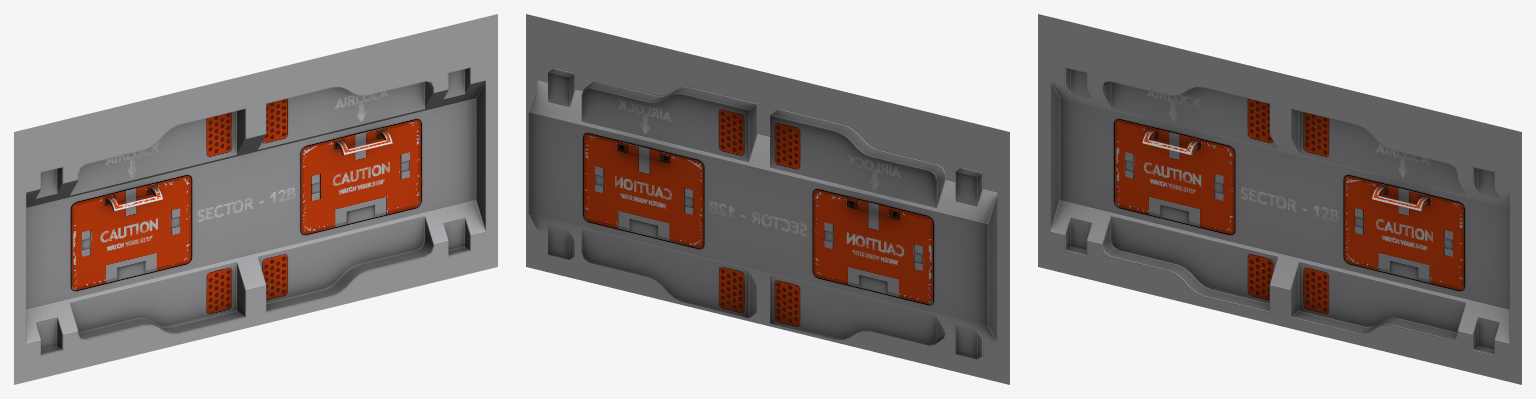
File: wall 1.obj
3 renders of one model, left to right at view 1: azimuth 30°, elevation 25°; view 2: azimuth 150°, elevation 25°; view 3: azimuth 330°, elevation 25°, orthographic.
Visible parts, largest first — view 1: wall_1_lp_Plane.017; view 2: wall_1_lp_Plane.017; view 3: wall_1_lp_Plane.017.
Boxes of the visible parts, <box> form: wall_1_lp_Plane.017: <box>14,14,497,384</box>; wall_1_lp_Plane.017: <box>526,14,1009,384</box>; wall_1_lp_Plane.017: <box>1038,14,1521,384</box>.
Bounding box in the file's own units: 4 × 2 × 0.1456.
1 material, 1 textured.
